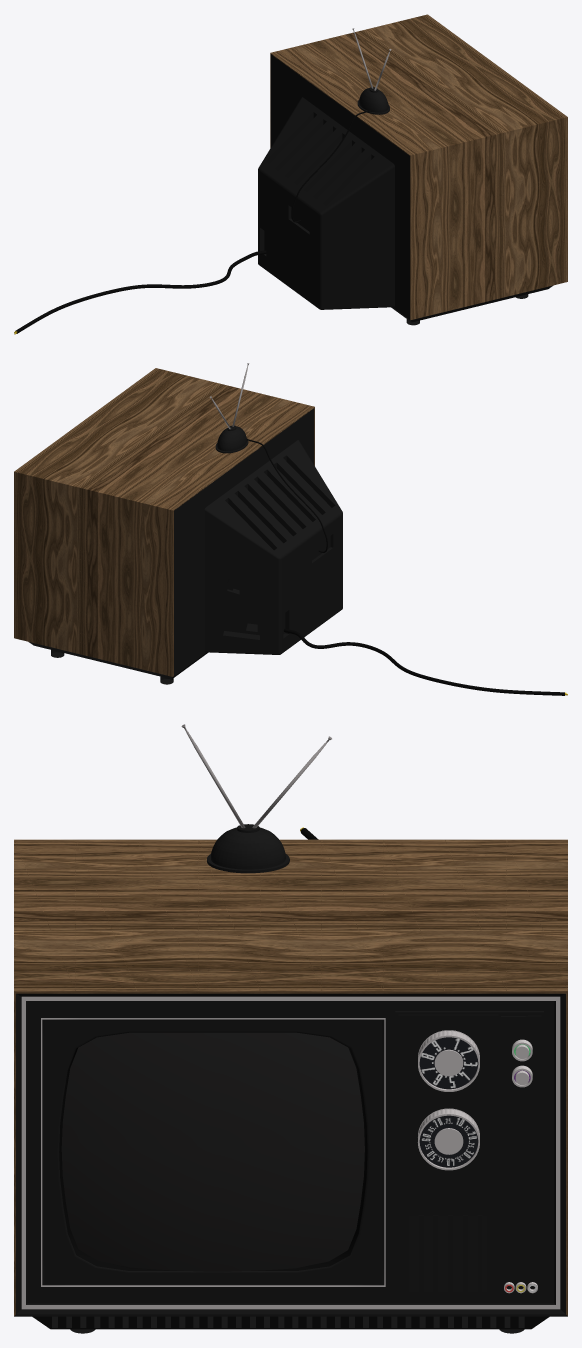
3 views of the same model, one above another, from view 1: azimuth 30°, elevation 25°; view 2: azimuth 150°, elevation 25°; view 3: azimuth 270°, elevation 25° (orthographic). The views are drawn at different scales.
Parts seen in each view (by area): view 1: Object_12, Object_16, Object_18; view 2: Object_12, Object_16, Object_18; view 3: Object_16, Object_12, Object_3, Object_14, Object_17, Object_2, Object_8, Object_15, Object_13.
Boxes of the visible parts, box(x1,y1,x2,y2) form: Object_12: box(270, 14, 567, 319); Object_16: box(258, 54, 553, 325); Object_18: box(15, 250, 266, 333); Object_12: box(14, 368, 314, 676); Object_16: box(29, 408, 342, 684); Object_18: box(283, 628, 564, 695); Object_16: box(14, 824, 567, 1333); Object_12: box(14, 839, 567, 1315); Object_3: box(61, 1032, 364, 1271); Object_14: box(21, 996, 560, 1309); Object_17: box(59, 1032, 367, 1270); Object_2: box(419, 1115, 478, 1167); Object_8: box(419, 1037, 478, 1089); Object_15: box(417, 1108, 479, 1170); Object_13: box(181, 724, 331, 828).
Bounding box in the file's own units: 11.43 × 5.7 × 5.71.
14 materials, 3 textured.
